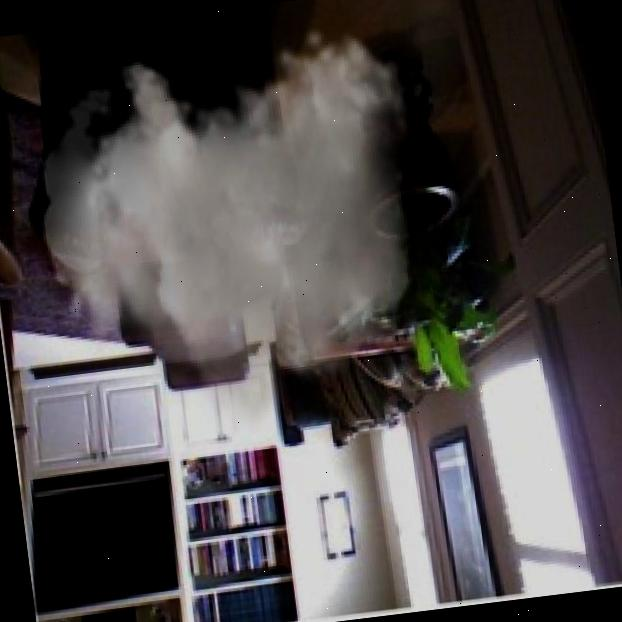smoke: (21, 15, 448, 463)
